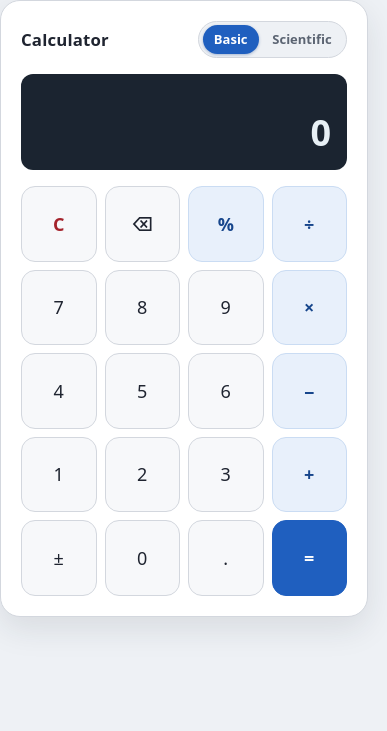
Test: Calculator calculations › applies square as power with exponent 2
This screenshot has width=387, height=731.
Step 1. Click the button "Scientific" → (302, 40), box left=261, top=25, right=343, bottom=54
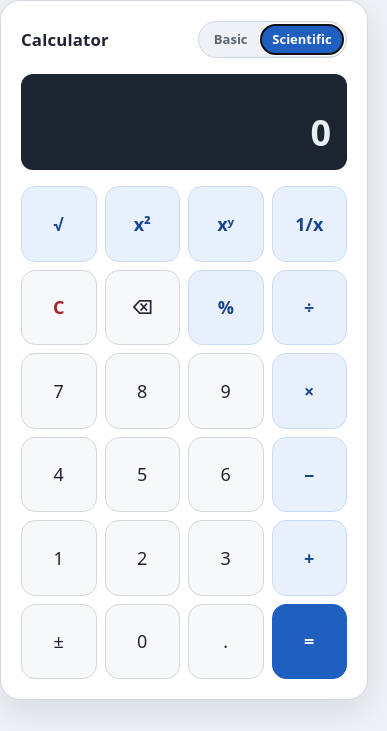
Step 2. Click the button "7" → (59, 391), box left=21, top=354, right=96, bottom=429
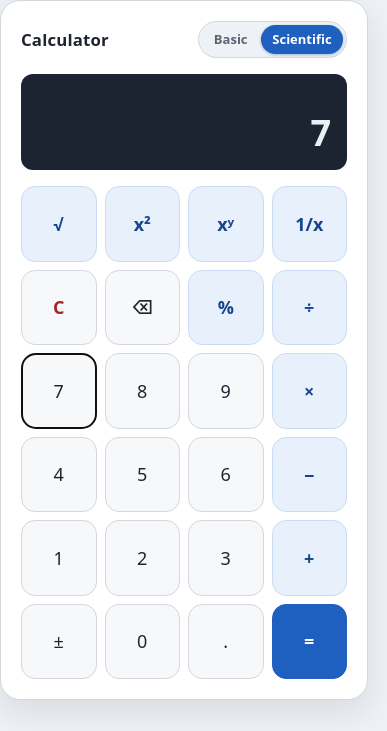
Step 3. Click the button with aria-label "Square" → (142, 224), box left=104, top=186, right=180, bottom=262
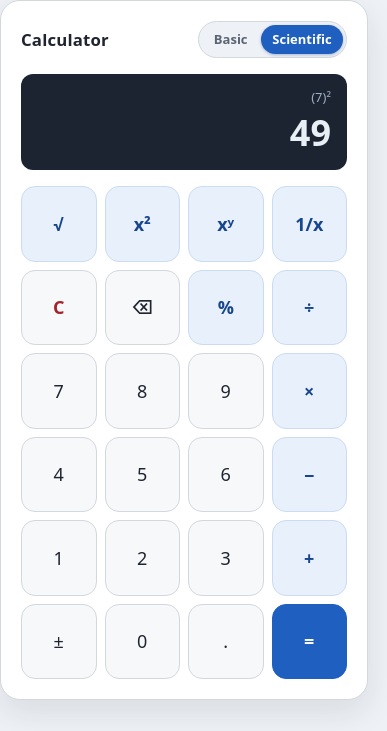
Now the text "49" is shown, box left=290, top=112, right=331, bottom=154
